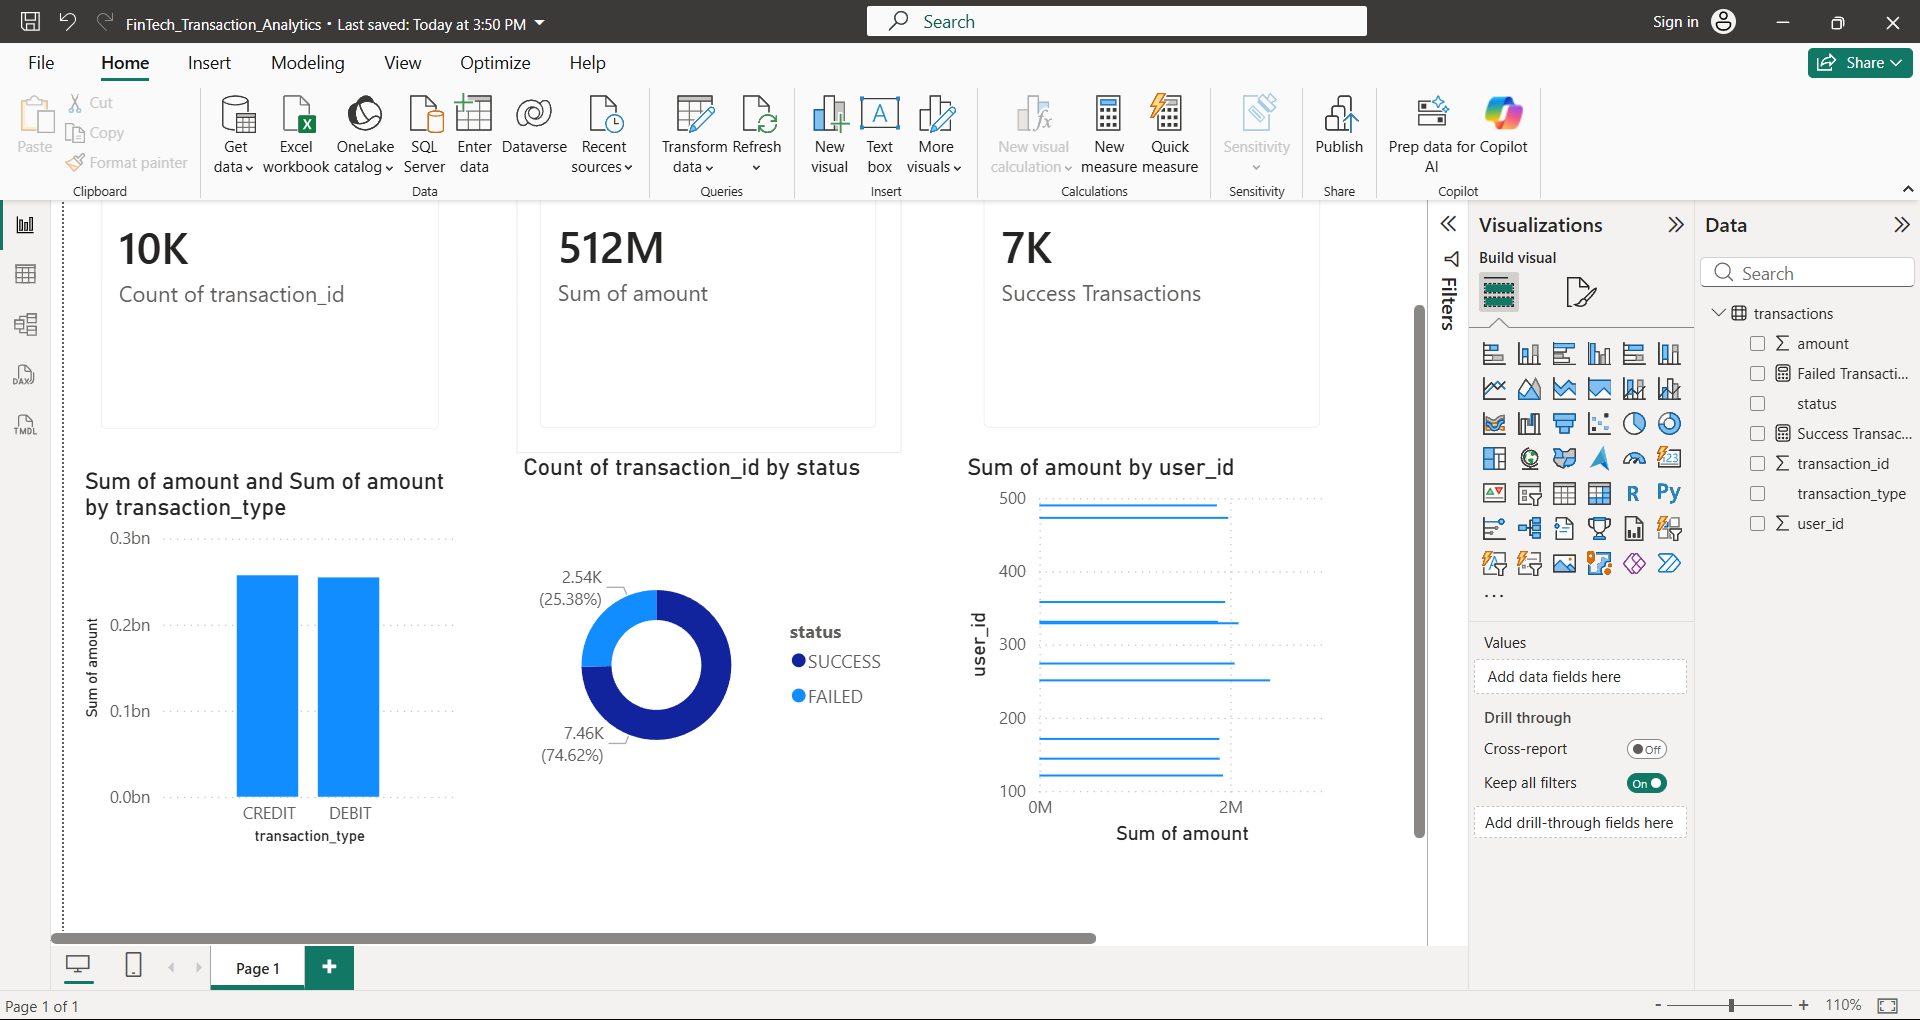

The dashboard page shown, as its layout file describes it:
{"tool":"powerbi","page":{"name":"Page 1","canvas":[1280,720],"ordinal":0},"visuals":[{"type":"cardVisual","fields":{"Data":["CountNonNull(transactions.transaction_id)"]},"box":[10,0,280,280],"z":0},{"type":"cardVisual","fields":{"Data":["transactions.Success Transactions"]},"box":[651.8,0,279.9,279.9],"z":1000},{"type":"cardVisual","fields":{"Data":["transactions.Failed Transactions"]},"box":[1000.3,0,279.9,279.9],"z":2000},{"type":"cardVisual","fields":{"Data":["Sum(transactions.amount)"]},"box":[329.3,0,279.9,279.9],"z":3000},{"type":"clusteredColumnChart","fields":{"Category":["transactions.transaction_type"],"Y":["Sum(transactions.amount)","Sum(transactions.amount)"]},"box":[10,290,280,280],"z":4000},{"type":"donutChart","fields":{"Category":["transactions.status"],"Y":["CountNonNull(transactions.transaction_id)"]},"box":[329.3,279.9,279.9,289.5],"z":4002},{"type":"clusteredBarChart","fields":{"Category":["transactions.user_id"],"Y":["Sum(transactions.amount)"]},"box":[651.8,279.9,279.9,289.5],"z":4003}]}

Visuals, with their boxes on the page's 1280x720 design canvas (x1, y1, x2, y2). These are canvas units, not pixel positions in the 1920x1020 screenshot, which may show the page scaled, cropped or inside an application window:
cardVisual - CountNonNull(transactions.transaction_id): [x1=10, y1=0, x2=290, y2=280]
cardVisual - transactions.Success Transactions: [x1=652, y1=0, x2=932, y2=280]
cardVisual - transactions.Failed Transactions: [x1=1000, y1=0, x2=1280, y2=280]
cardVisual - Sum(transactions.amount): [x1=329, y1=0, x2=609, y2=280]
clusteredColumnChart - transactions.transaction_type x Sum(transactions.amount): [x1=10, y1=290, x2=290, y2=570]
donutChart - transactions.status x CountNonNull(transactions.transaction_id): [x1=329, y1=280, x2=609, y2=569]
clusteredBarChart - transactions.user_id x Sum(transactions.amount): [x1=652, y1=280, x2=932, y2=569]
